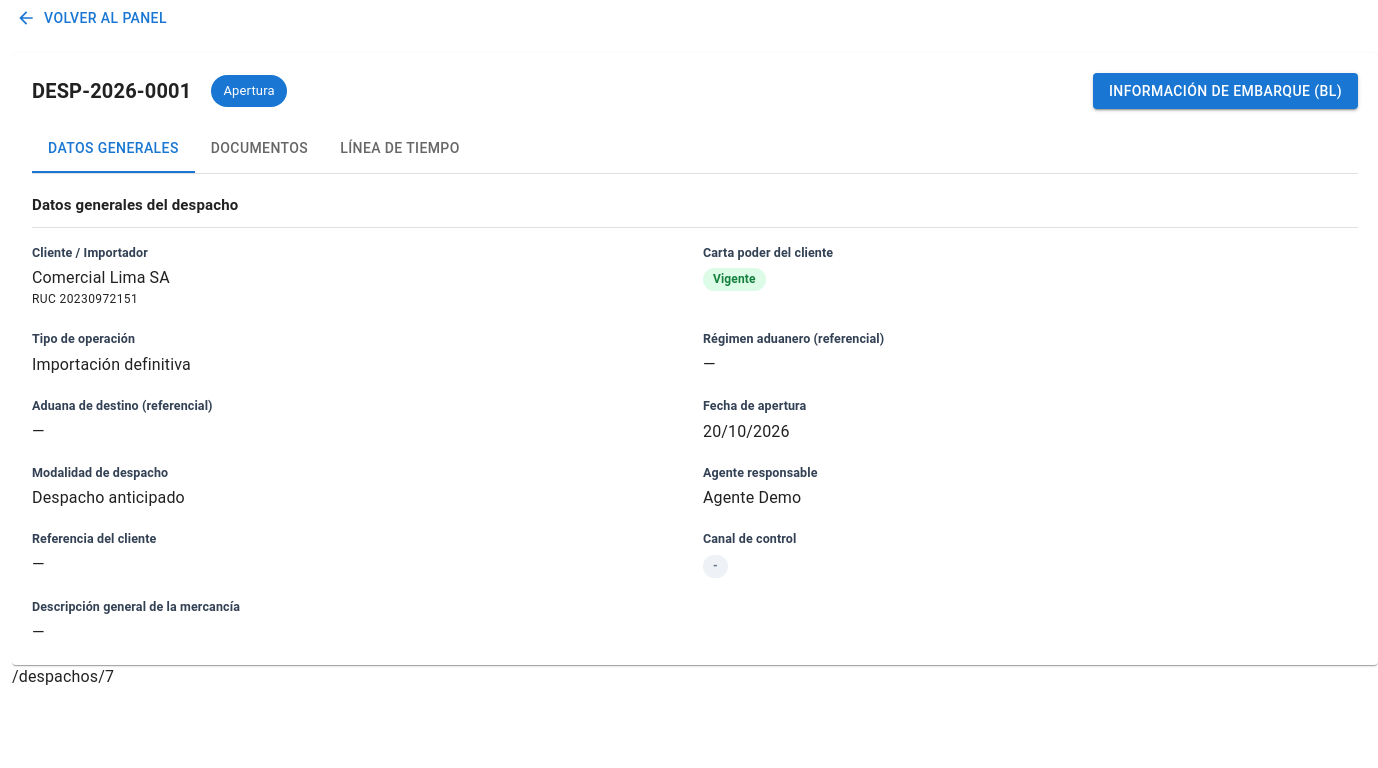
Test case: DespachoDetallePage · pestañas del Sprint 2 › «Línea de tiempo» lista los hitos del despacho
The width and height of the screenshot is (1378, 768).
What coordinates should you click on to do the following:
click the tab "Línea de tiempo"
I would click on:
 (400, 149)
Its box is [324,125,476,173].
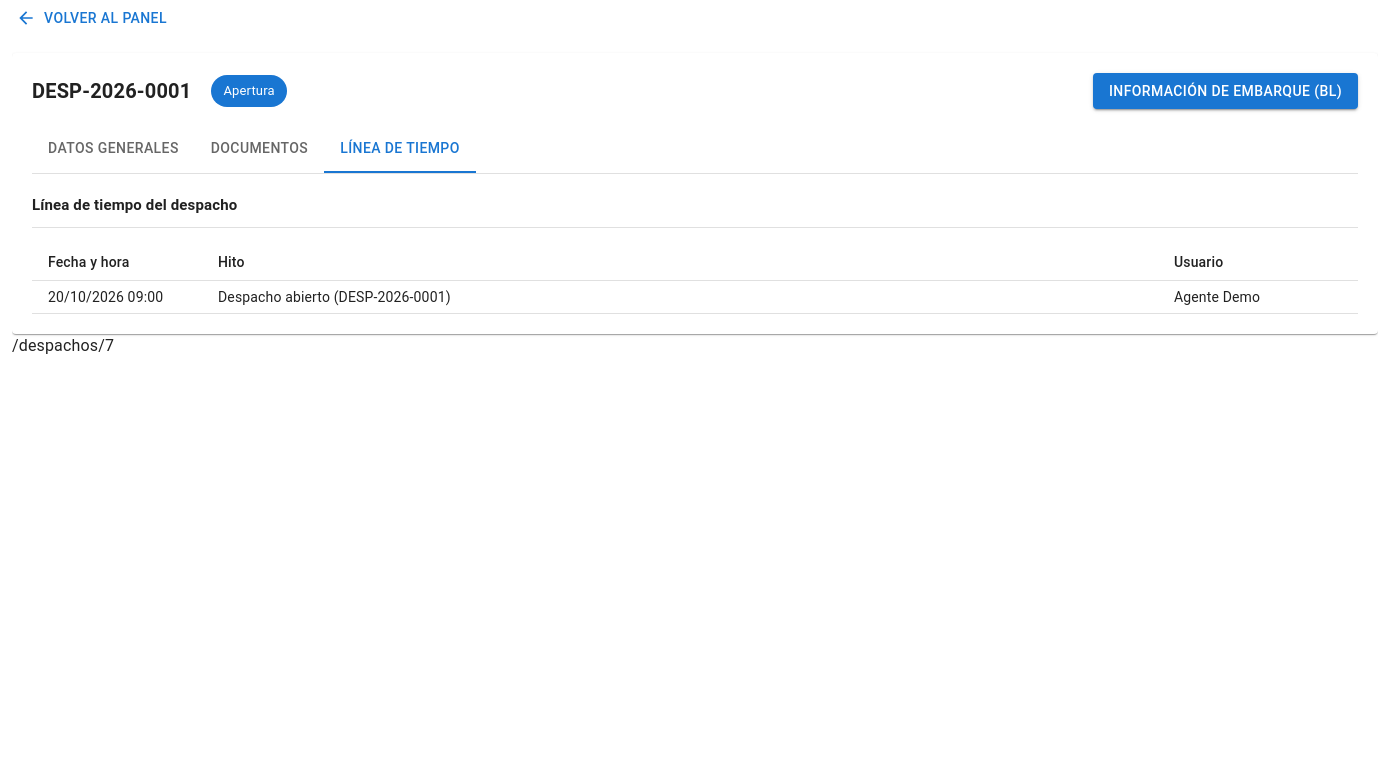
Result: the text "Despacho abierto (DESP-2026-0001)" is shown at [202,280,1158,313]
